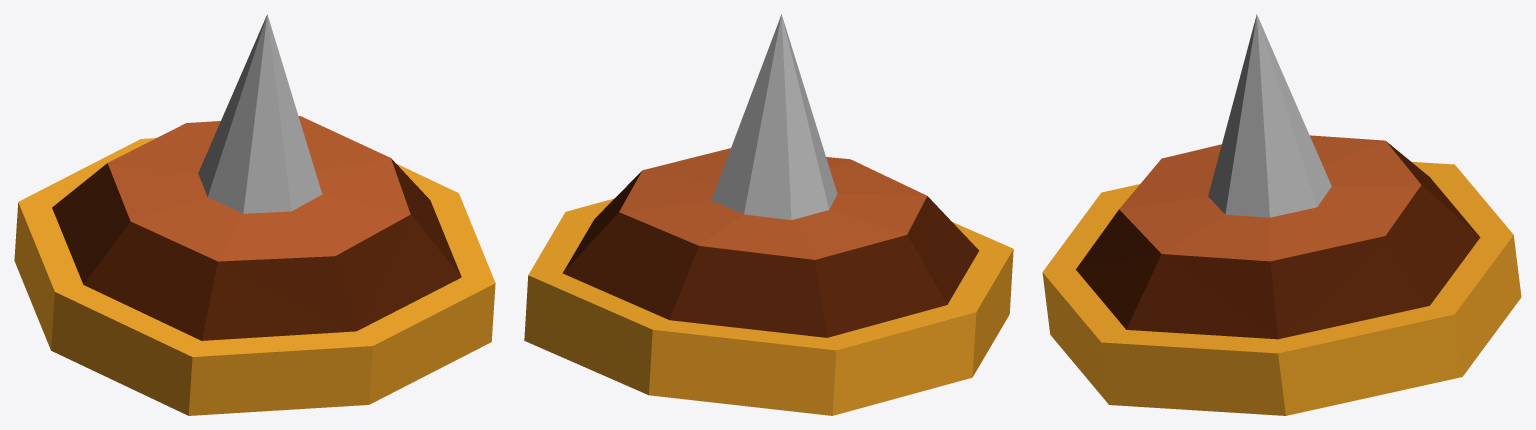
File: Poleyn 08.FBX
3 renders of one model, left to right at view 1: azimuth 30°, elevation 25°; view 2: azimuth 150°, elevation 25°; view 3: azimuth 270°, elevation 25°, orthographic.
Visible parts, largest first — view 1: Poleyn 08; view 2: Poleyn 08; view 3: Poleyn 08.
Part boxes in pixels (x1,y1,x2,y2): Poleyn 08: (14,14,495,415); Poleyn 08: (524,14,1013,415); Poleyn 08: (1042,14,1521,415).
Bounding box in the file's own units: 11.83 × 11.98 × 8.85.
Materials: 1 (1 with a texture image).
